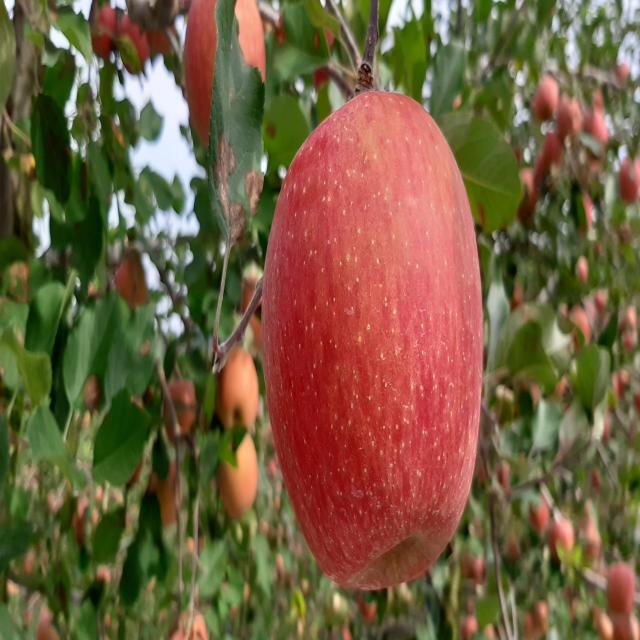fresh: (259, 79, 491, 602)
